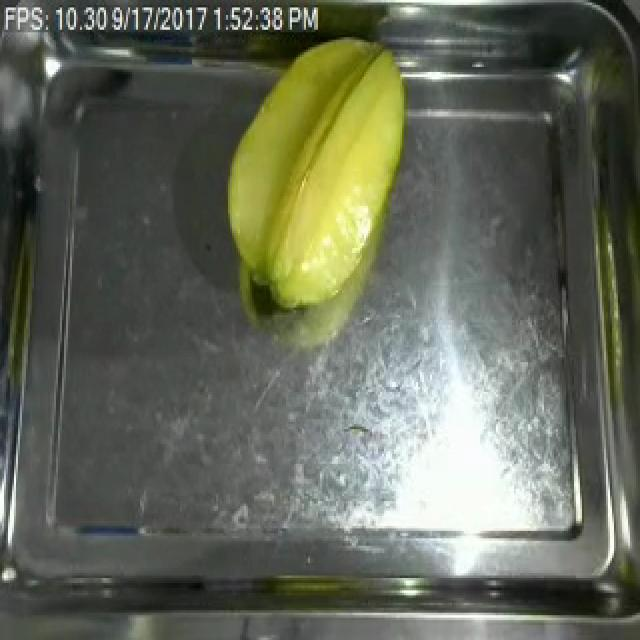fruit: (210, 25, 422, 322)
